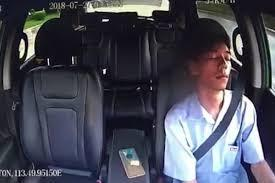Drowsy: (180, 24, 245, 100)
